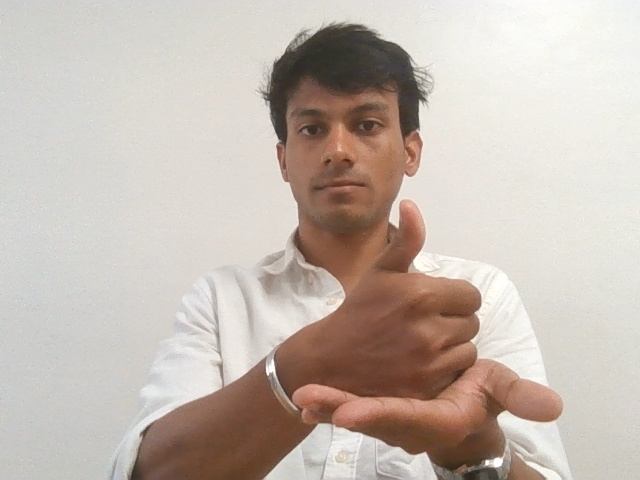Help: (304, 199, 562, 440)
